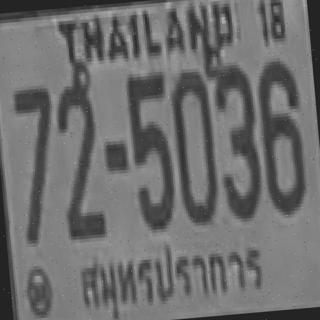N00: (167, 68, 219, 224)
N02: (53, 79, 105, 238)
N03: (210, 60, 262, 216)
N05: (124, 71, 176, 227)
N06: (253, 56, 307, 213)
N07: (11, 84, 61, 240)
P57: (71, 224, 272, 320)
